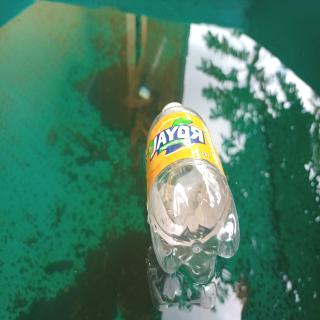bottle: (146, 102, 239, 284)
